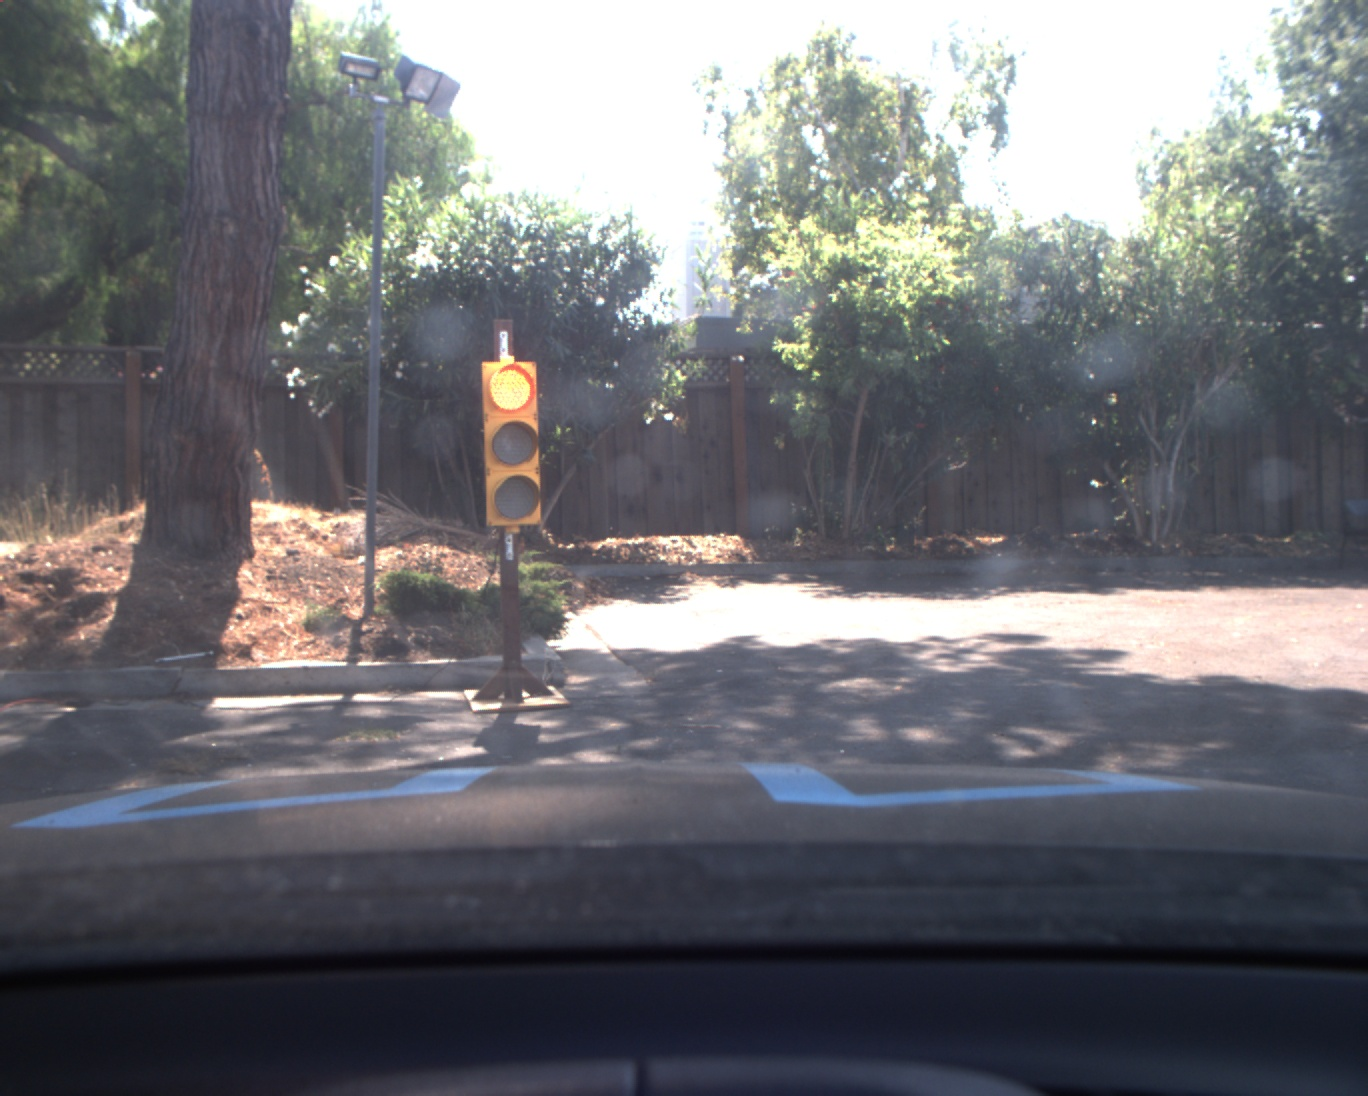red: (483, 362, 540, 526)
